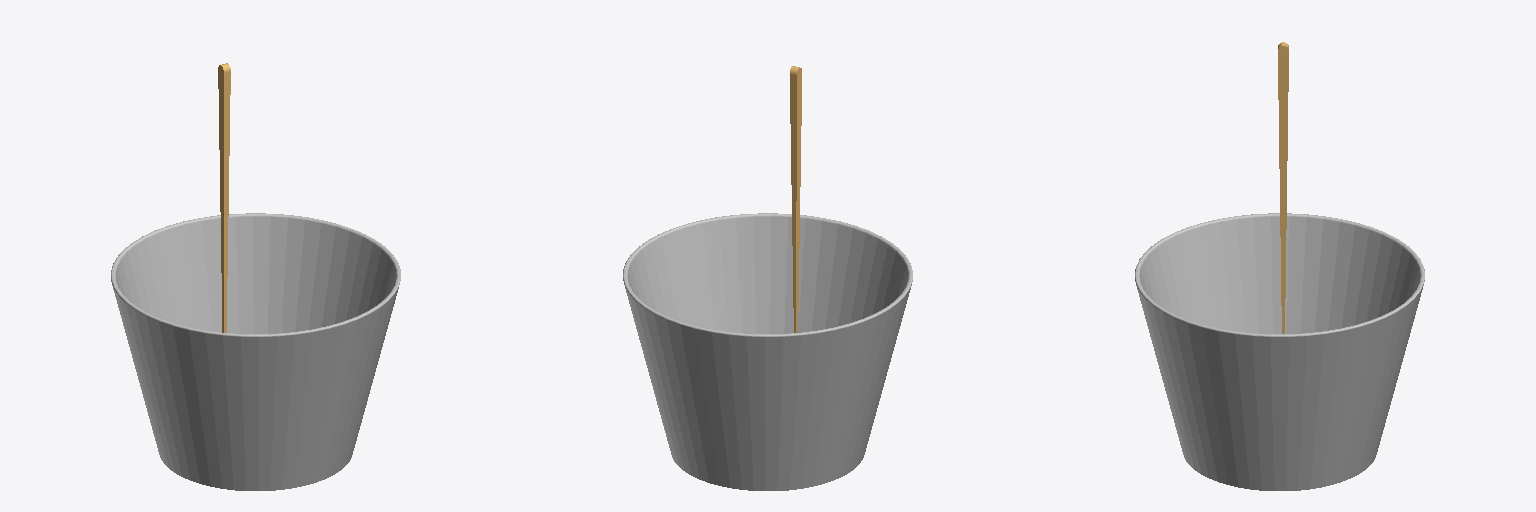
Rendered from shumai x1 with bowl and toothpick.obj.
3 renders of one model, left to right at view 1: azimuth 30°, elevation 25°; view 2: azimuth 150°, elevation 25°; view 3: azimuth 270°, elevation 25°, orthographic.
Visible parts, largest first — view 1: Mesh1 Group3 Group2 Group1 Model, Mesh6 toothpick1 toothpick_1_1 Group1 Model; view 2: Mesh1 Group3 Group2 Group1 Model, Mesh6 toothpick1 toothpick_1_1 Group1 Model; view 3: Mesh1 Group3 Group2 Group1 Model, Mesh6 toothpick1 toothpick_1_1 Group1 Model.
Boxes of the visible parts, <box> form: Mesh1 Group3 Group2 Group1 Model: <box>111,213,400,490</box>; Mesh6 toothpick1 toothpick_1_1 Group1 Model: <box>218,63,230,332</box>; Mesh1 Group3 Group2 Group1 Model: <box>623,213,912,490</box>; Mesh6 toothpick1 toothpick_1_1 Group1 Model: <box>790,66,801,332</box>; Mesh1 Group3 Group2 Group1 Model: <box>1135,213,1424,490</box>; Mesh6 toothpick1 toothpick_1_1 Group1 Model: <box>1278,42,1288,333</box>.
Bounding box in the file's own units: 0.1542 × 0.2315 × 0.1545.